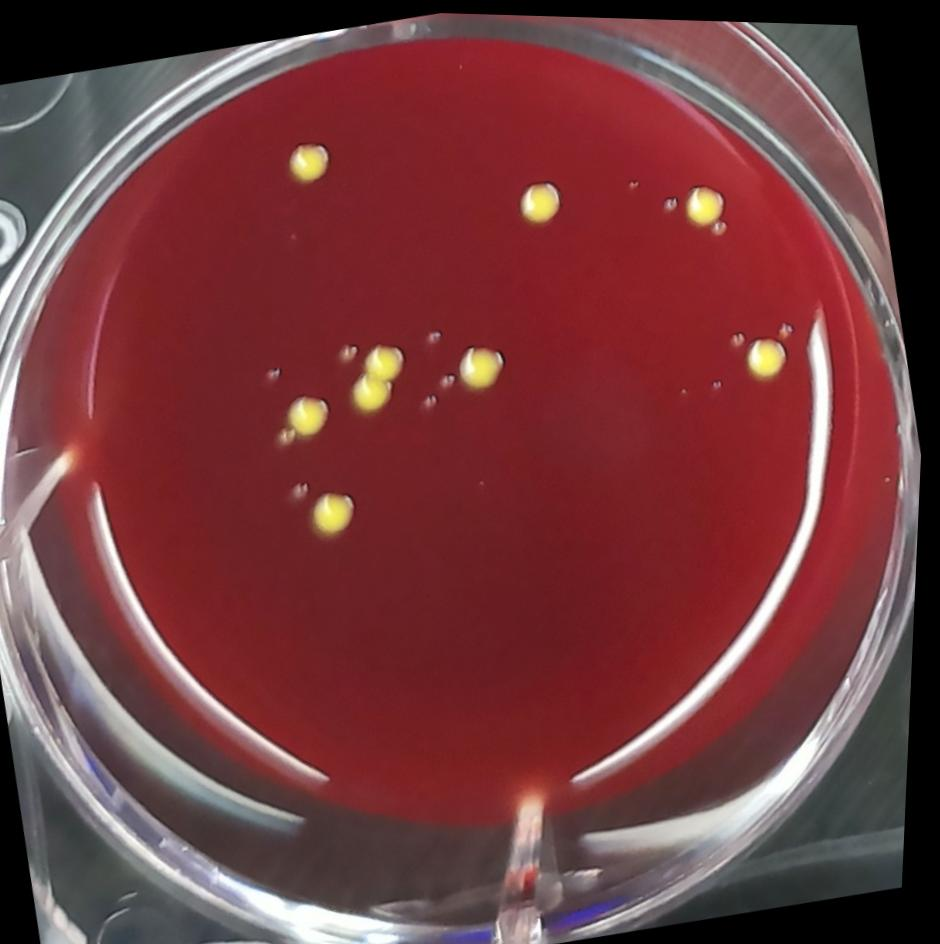mluteus: (334, 329, 417, 415), (728, 312, 807, 388), (272, 383, 345, 453), (305, 475, 373, 542), (452, 330, 519, 394), (676, 171, 737, 236), (510, 169, 574, 226), (281, 131, 341, 189)
